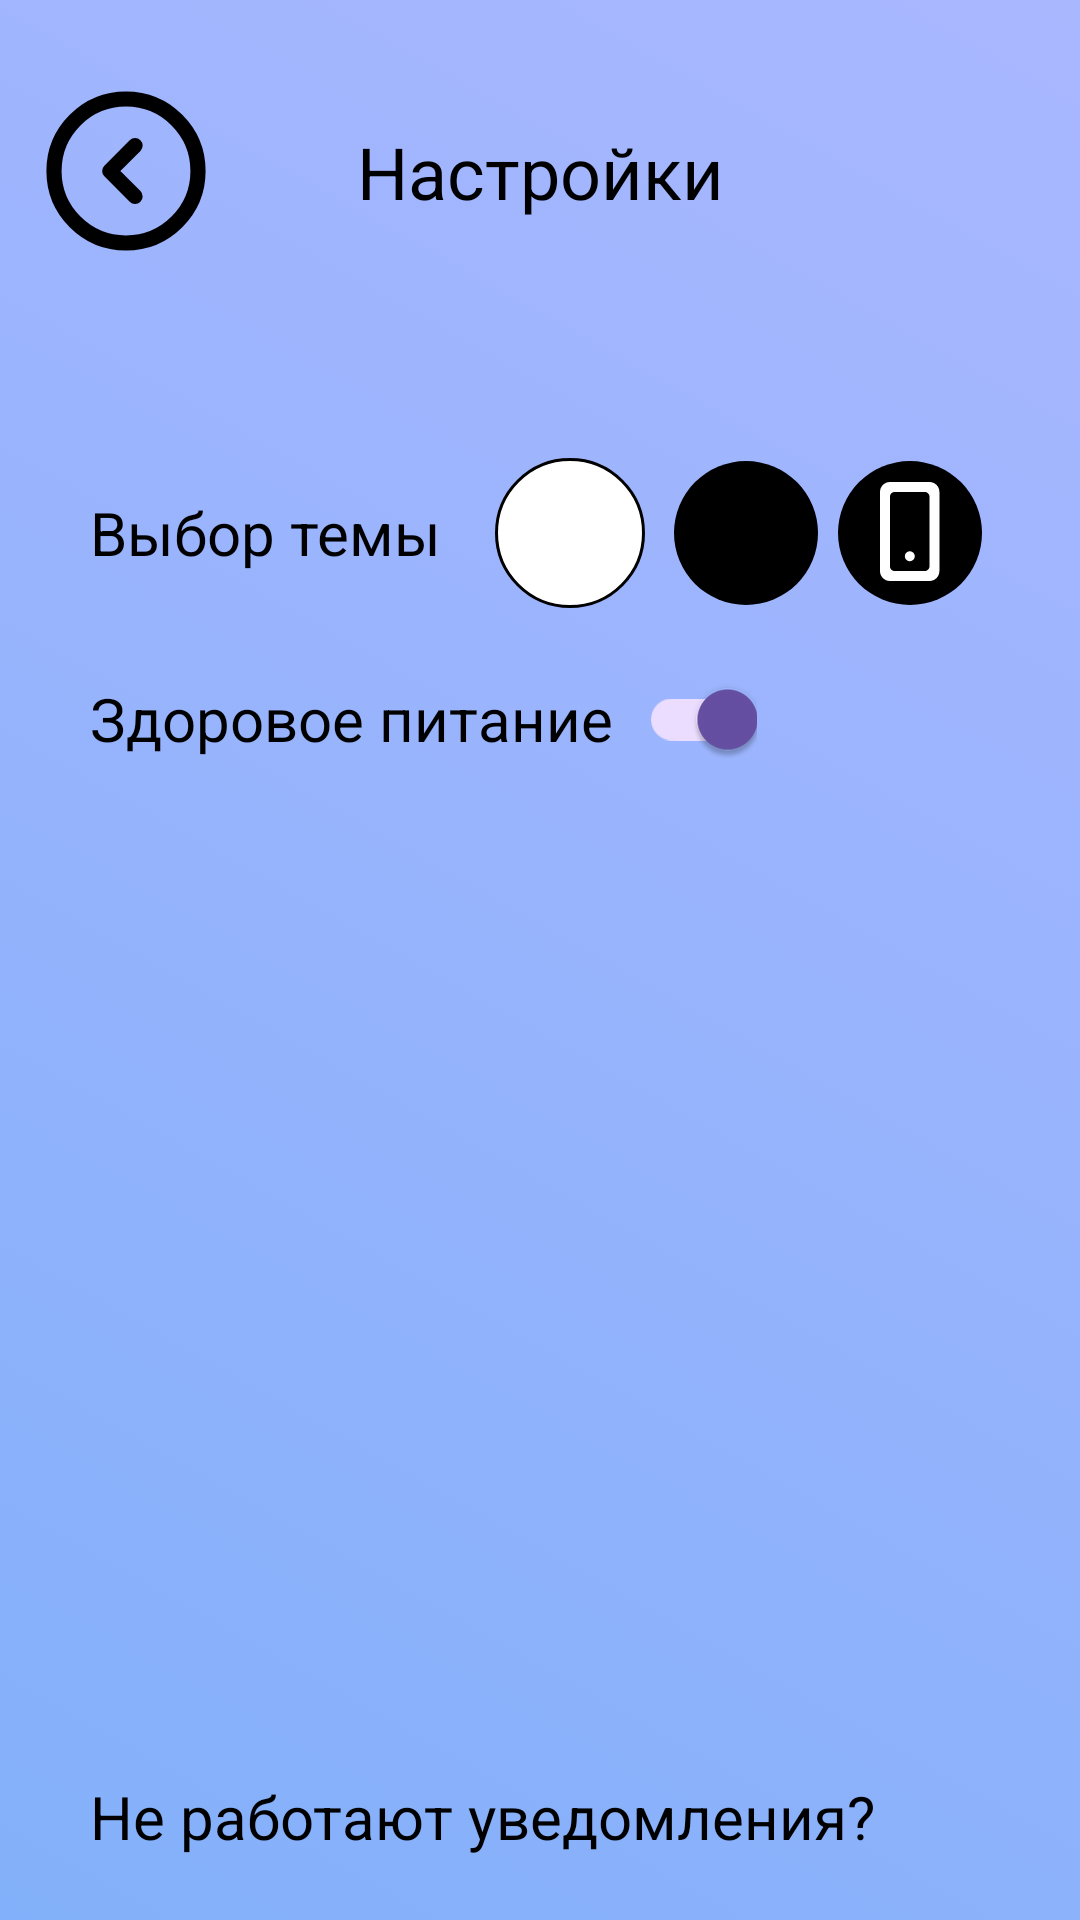

Locate icon controls on the screen. Image size 1080x1920, boxes as (x1, y1, x2, y2).
arrow left: (46, 91, 206, 251)
mobile theme: (838, 461, 982, 605)
